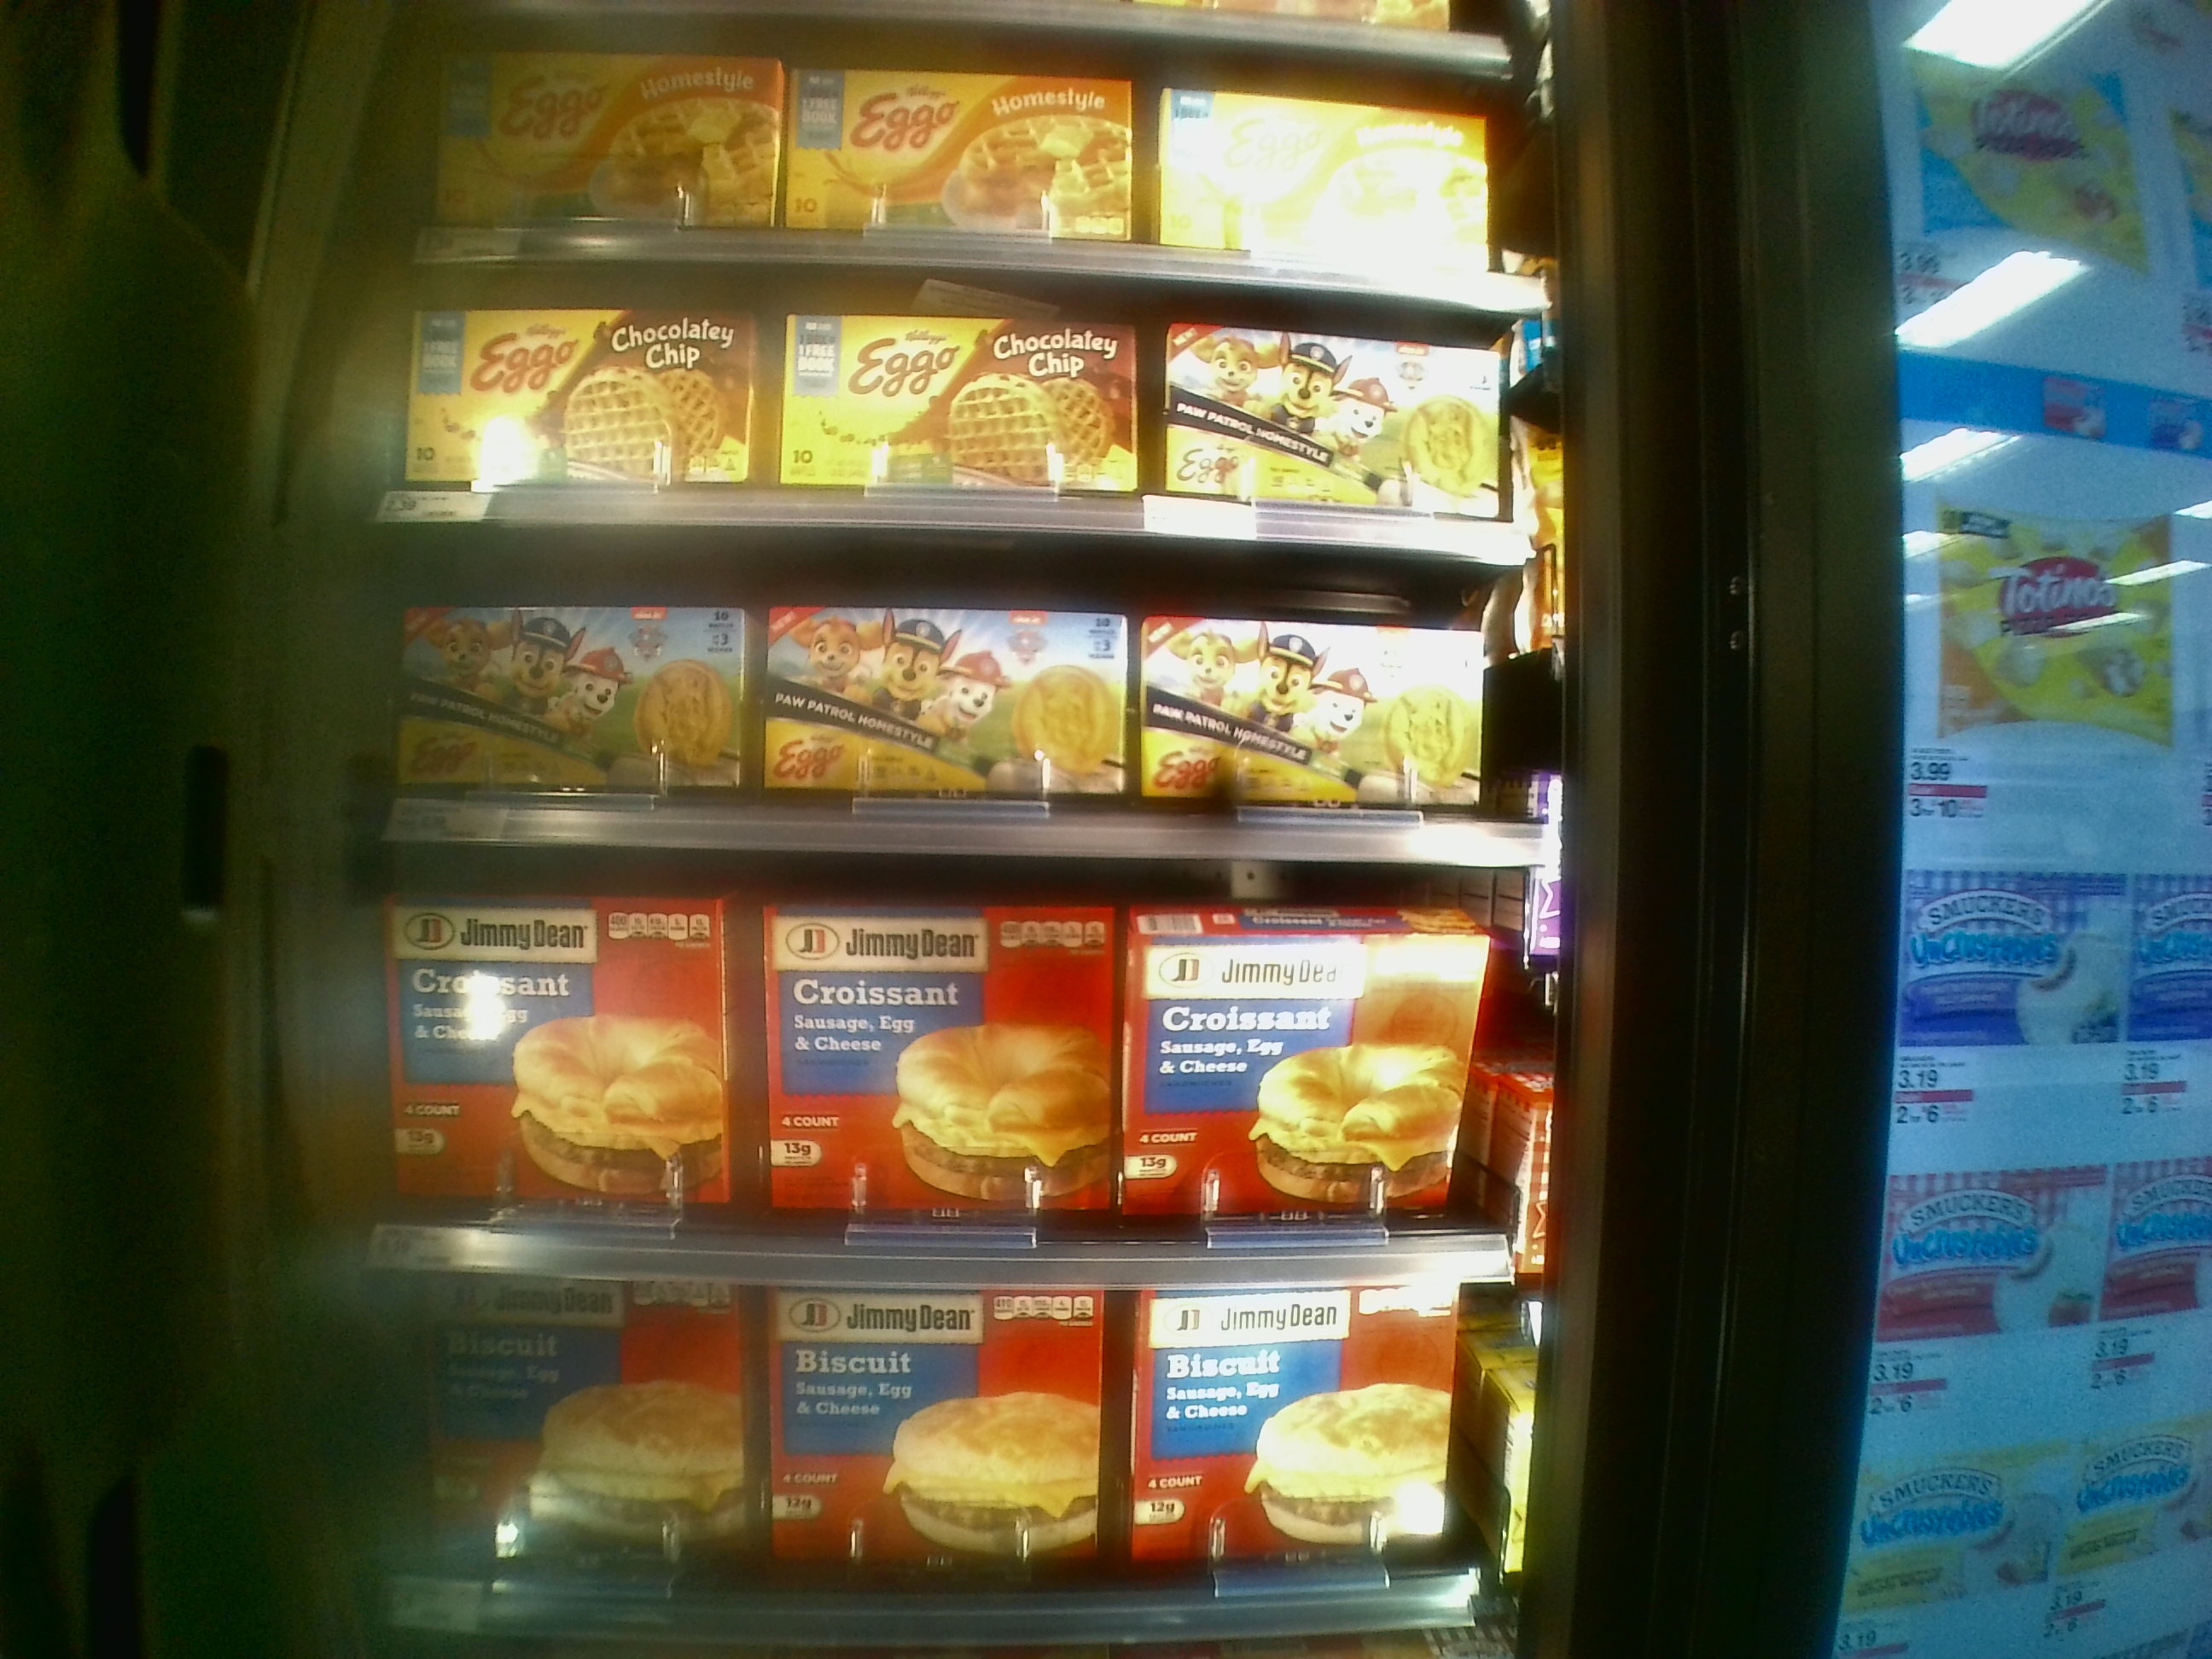shelf: (369, 836, 1521, 1281), (374, 518, 1554, 877)
